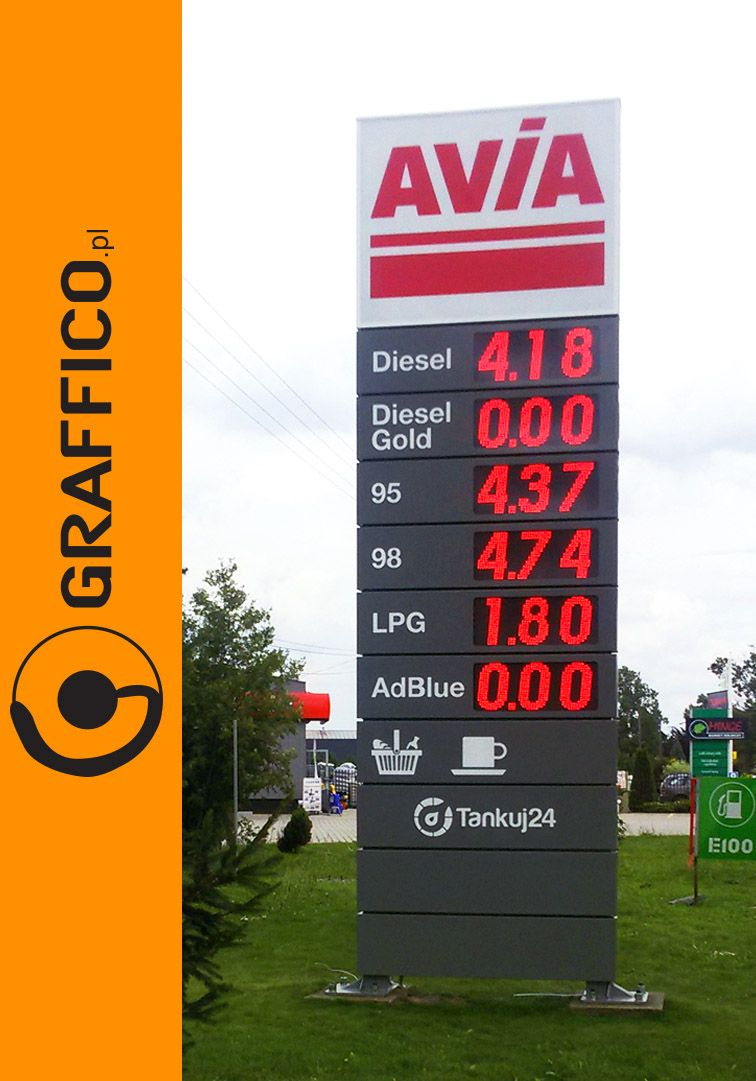LPG: (356, 594, 439, 651)
PB95: (364, 462, 419, 523)
PB98: (364, 530, 412, 582)
